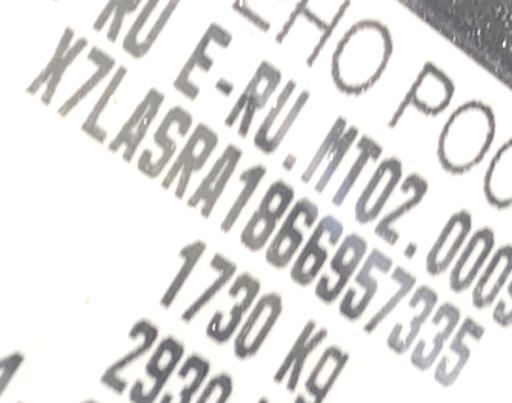letter: (28, 26, 88, 104), (108, 86, 164, 160), (82, 64, 136, 140), (161, 123, 217, 196), (137, 106, 193, 176), (58, 49, 114, 117), (190, 144, 240, 215), (291, 215, 343, 283), (314, 233, 366, 301), (241, 182, 293, 249), (266, 199, 318, 266), (362, 266, 414, 333), (386, 287, 438, 354), (341, 250, 391, 319), (434, 319, 484, 386), (408, 305, 460, 366), (222, 164, 266, 233)
